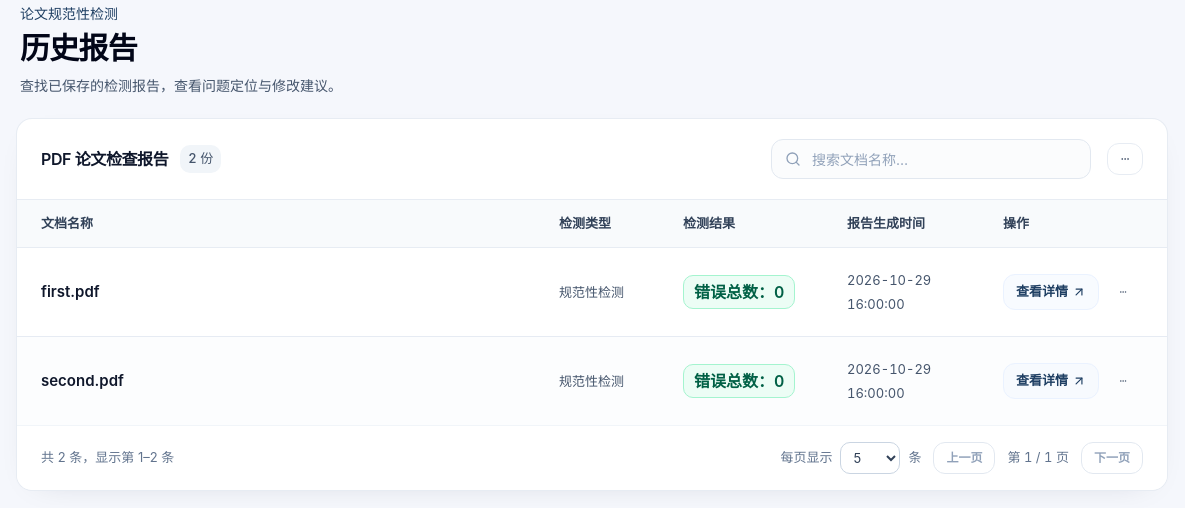
Test case: confirms a single deletion and removes just that report from history
Expected: the link "first.pdf" is shown, [41, 282, 100, 301]
Click the button named "更多操作：first.pdf" at (1123, 292), box [1107, 276, 1139, 308]
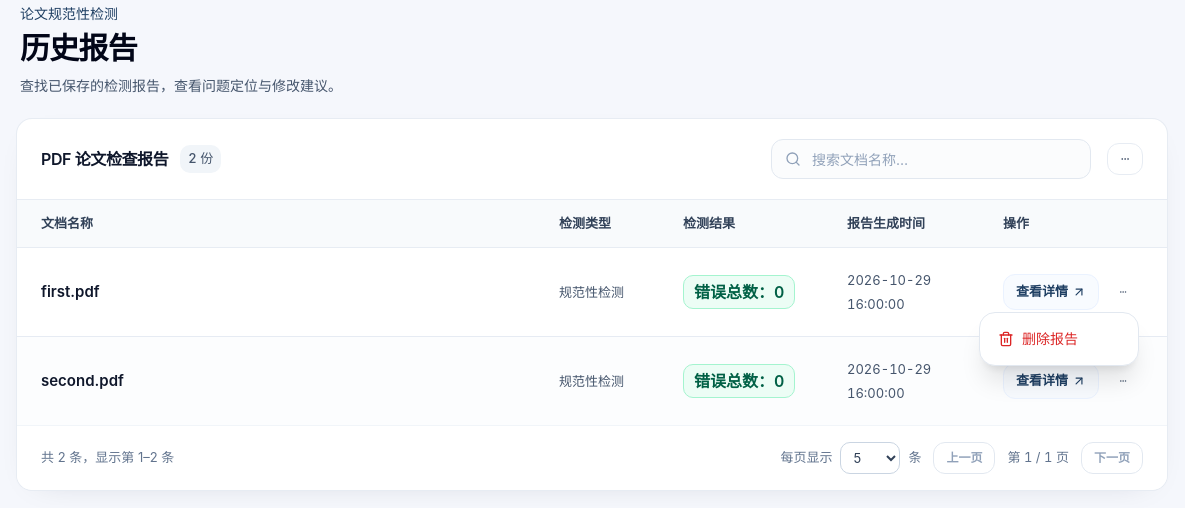
Click the menu item "删除报告" at (1038, 338), box [998, 330, 1078, 347]
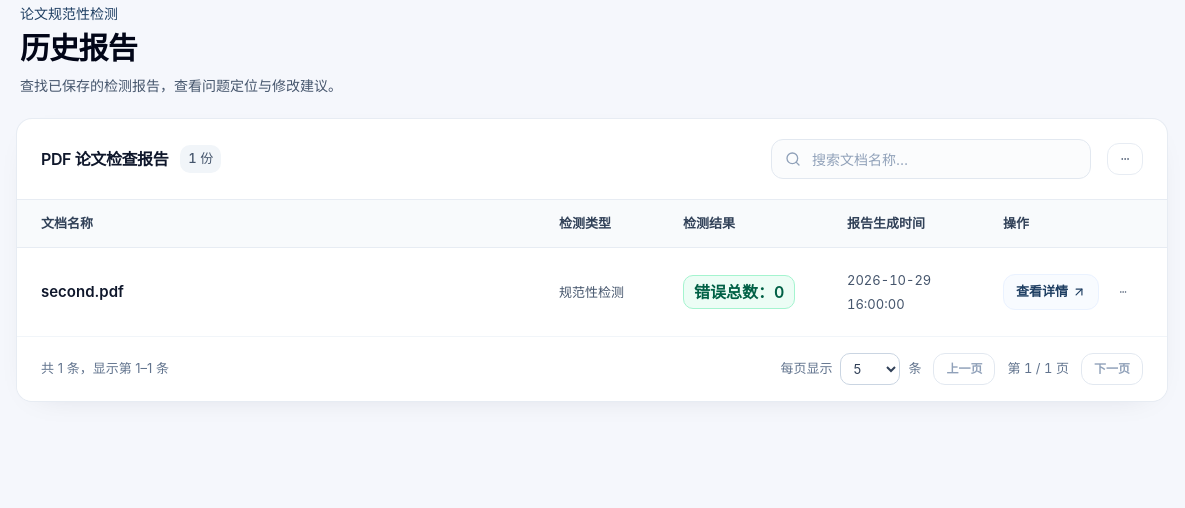
Expected: the link "second.pdf" is shown, [41, 282, 124, 301]
Now the link "first.pdf" is gone
